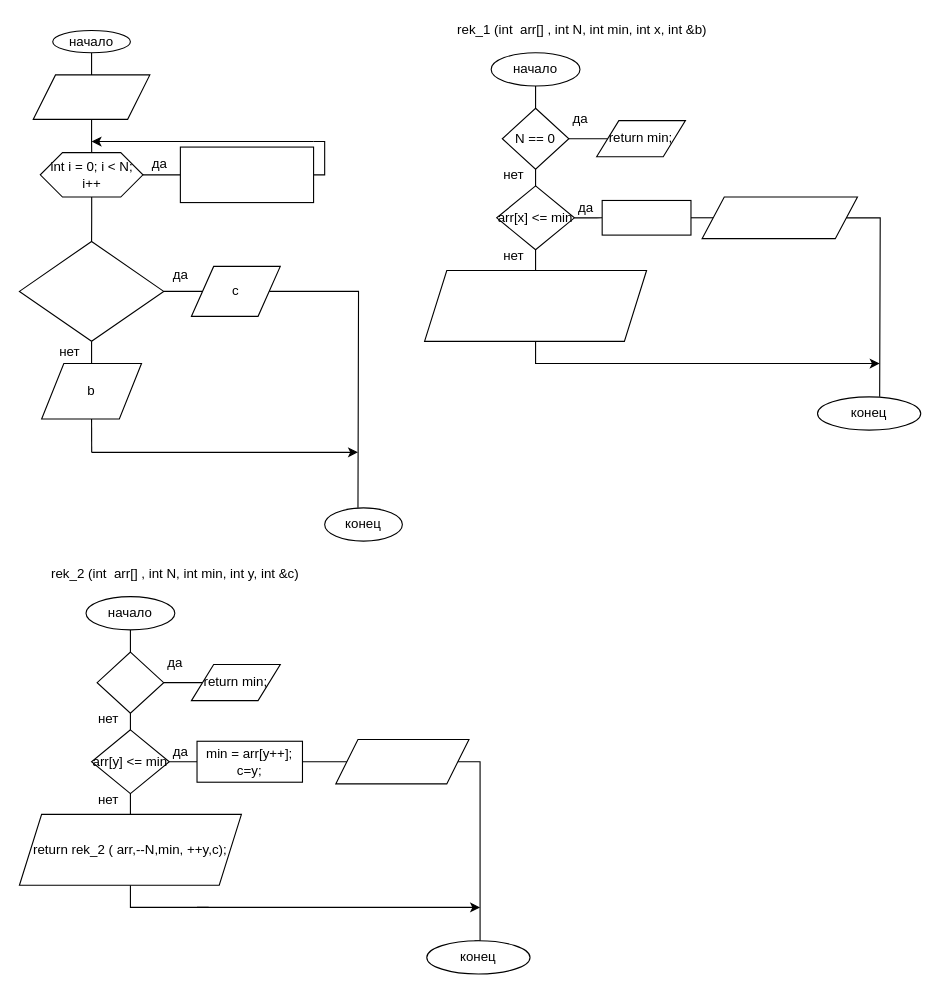
Image size: 940x993. Some labels were removed from this diagram. Each missing label, with the centre of its shape:
arr[i]=rand() %100 +1; cout<<arr[i]<<" ";: point 246,174
b,c,N,arr[N],i,j: point 91,96
min = arr[x++]; b=x;: point 646,217
N == 5: point 130,682
rek_1( arr, N/2, min, i, b) >= rek_2 (arr,N, min, j, c ): point 91,290
rek_2 ( arr,--N,min,y,c);: point 402,761
return rek_1 ( arr,--N,min, ++x,b);: point 535,305
return rek_1 ( arr,--N,min,x,b);: point 779,217
